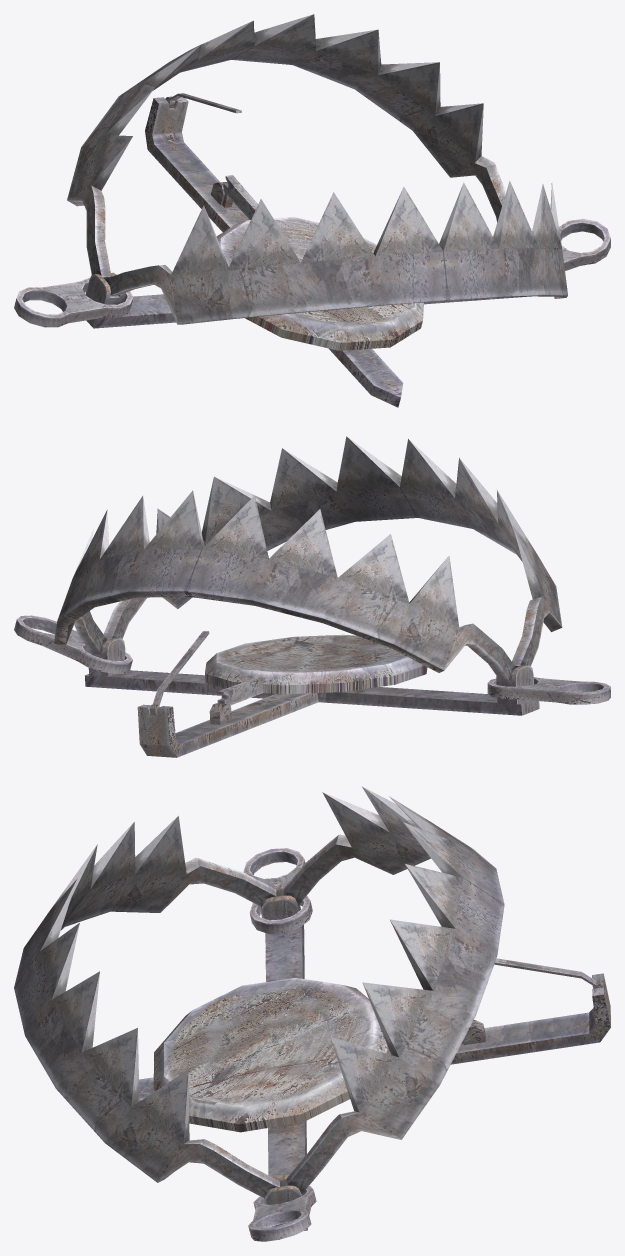
3 views of the same model, one above another, from view 1: azimuth 30°, elevation 25°; view 2: azimuth 150°, elevation 25°; view 3: azimuth 270°, elevation 25° (orthographic). The views are drawn at different scales.
Parts seen in each view (by area): view 1: Trap_LeftSide, Trap_RightSide, Trap_Cross, Trap_Center, Trap_1, Trap_4; view 2: Trap_RightSide, Trap_LeftSide, Trap_Cross, Trap_Center, Trap_1, Trap_4, Trap_3; view 3: Trap_RightSide, Trap_LeftSide, Trap_Center, Trap_Cross, Trap_1, Trap_3.
Part boxes in pixels (box(x1,y1,x2,y2)): Trap_LeftSide: box(105, 181, 567, 324); Trap_RightSide: box(67, 14, 506, 279); Trap_Cross: box(85, 96, 526, 407); Trap_Center: box(216, 217, 423, 350); Trap_1: box(14, 218, 610, 327); Trap_4: box(222, 175, 257, 219); Trap_RightSide: box(54, 490, 515, 683); Trap_LeftSide: box(103, 436, 562, 667); Trap_Cross: box(85, 638, 539, 757); Trap_Center: box(205, 634, 427, 694); Trap_1: box(14, 615, 610, 704); Trap_4: box(217, 677, 265, 719); Trap_3: box(153, 631, 209, 710); Trap_RightSide: box(283, 786, 504, 1193); Trap_LeftSide: box(14, 816, 279, 1198); Trap_Center: box(153, 978, 388, 1132); Trap_Cross: box(139, 885, 610, 1230); Trap_1: box(243, 848, 316, 1241); Trap_3: box(494, 958, 600, 988).
Bounding box in the file's own units: 149 × 68.17 × 122.
1 material, 1 textured.
